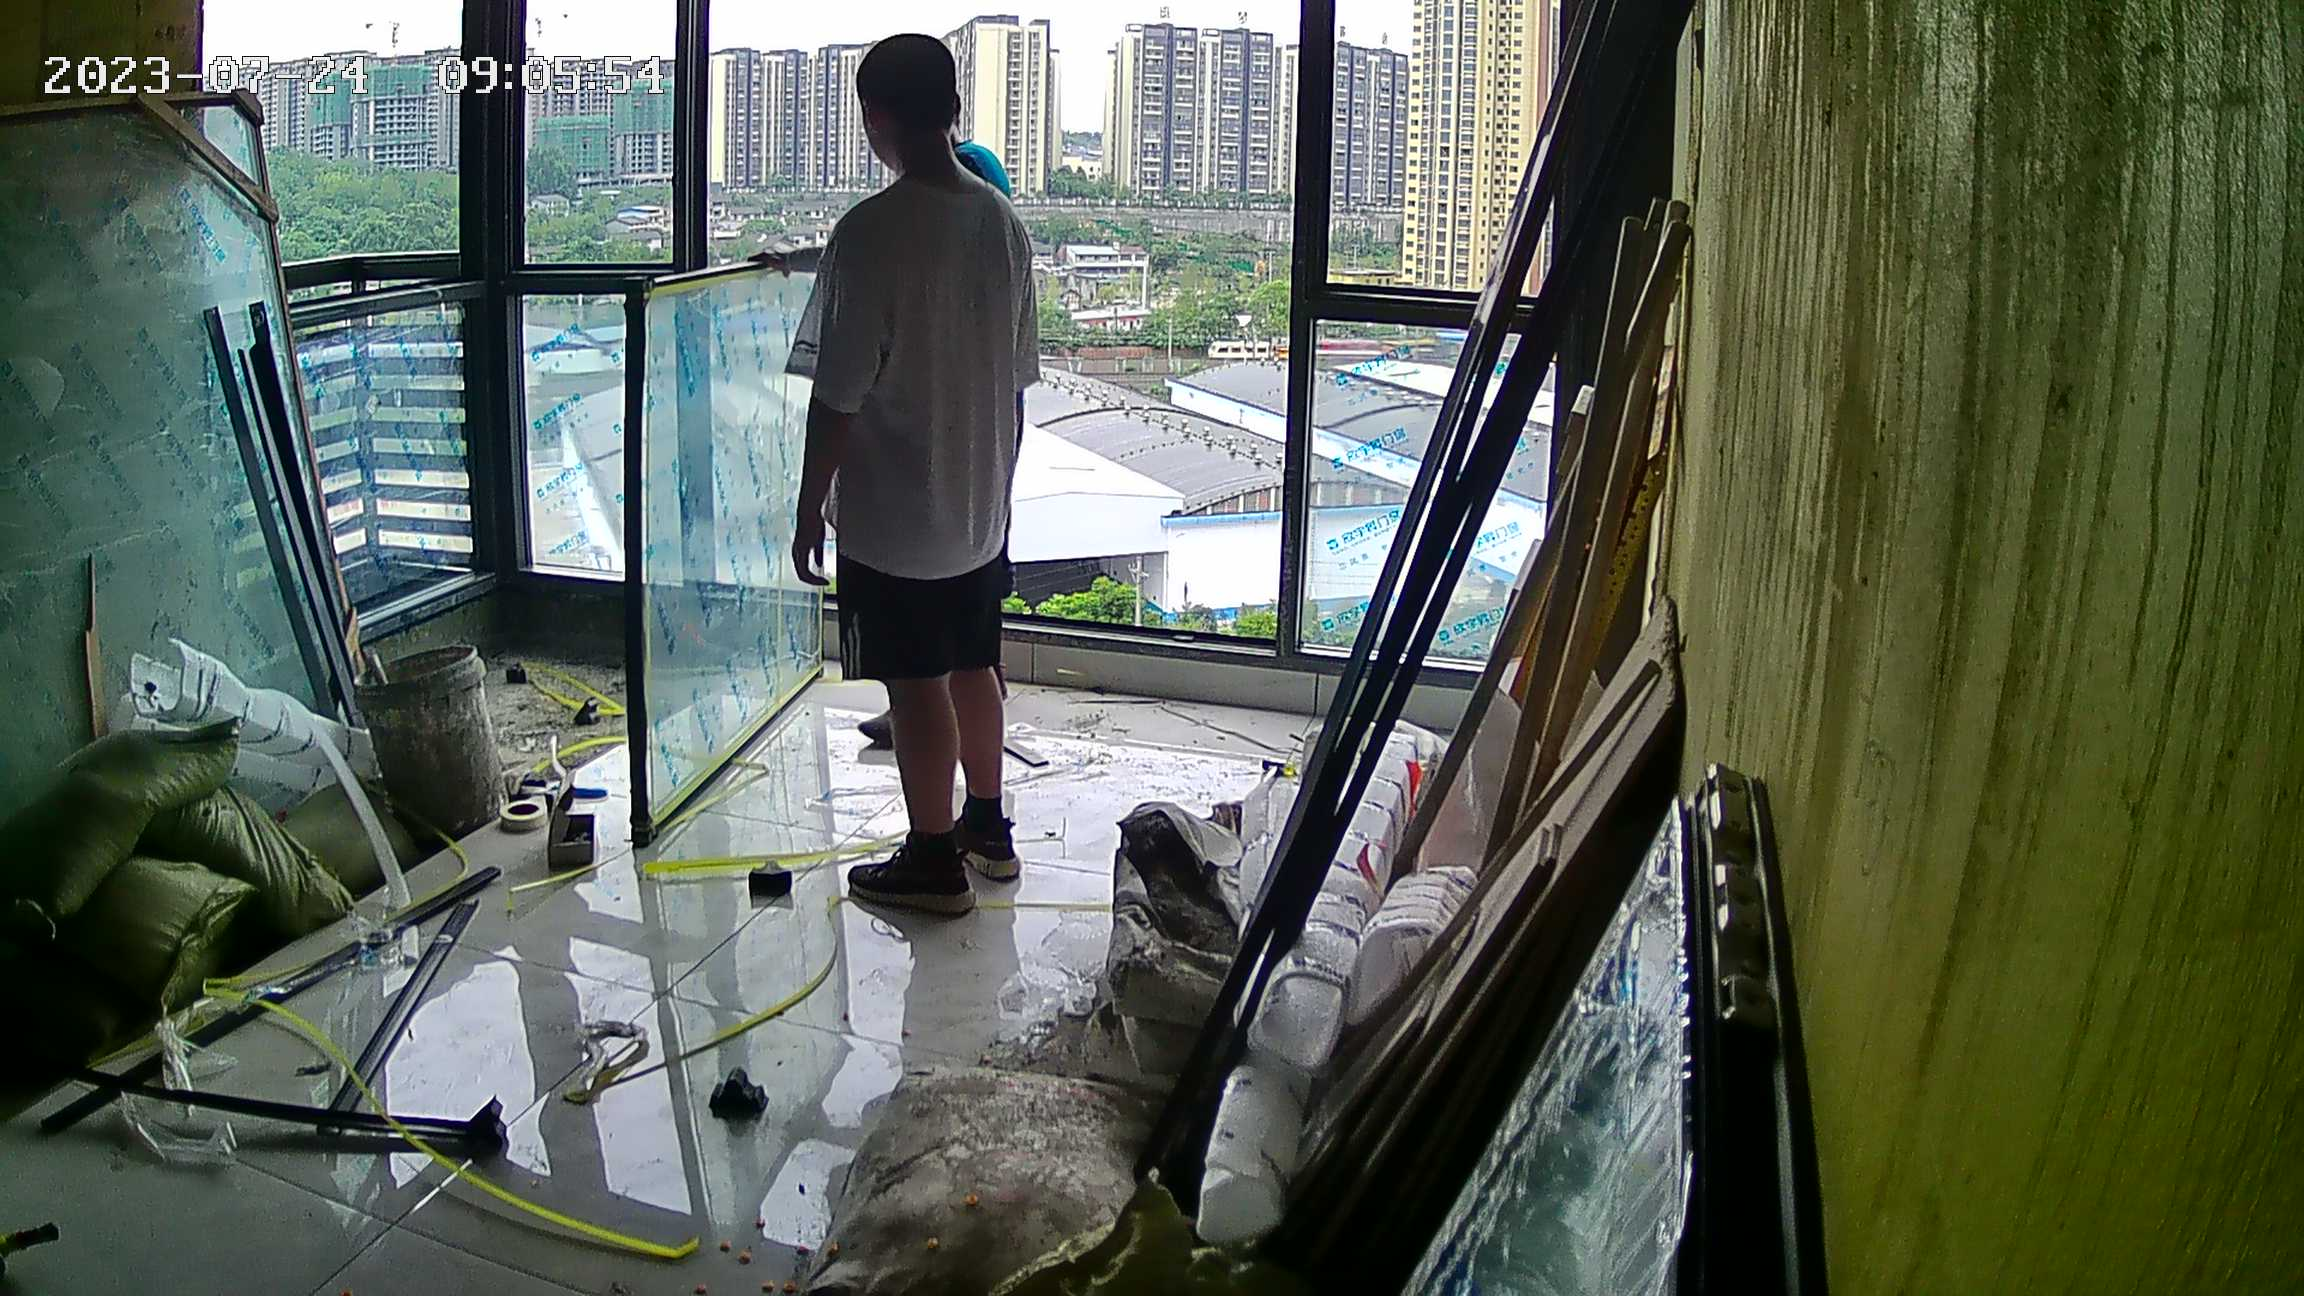people: (791, 28, 1035, 924)
window: (198, 8, 1584, 701)
